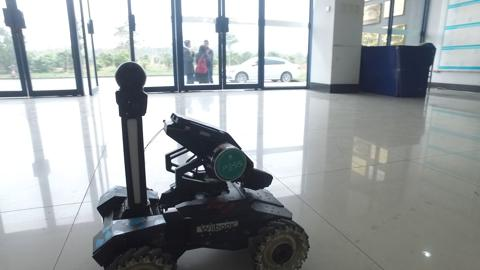chariot: (67, 58, 321, 270)
